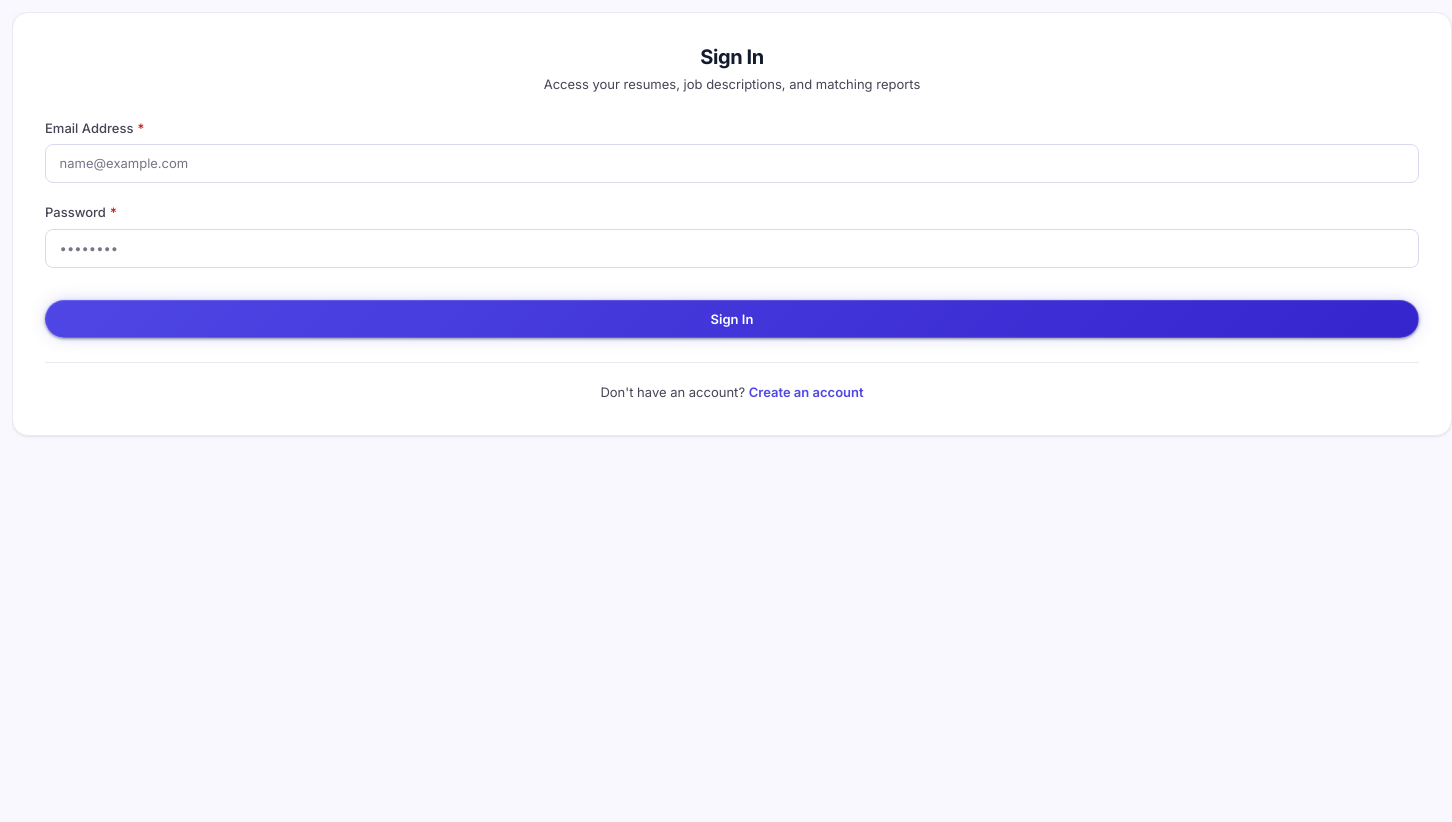
Test case: Authentication & Route Protection Suite › 2. Successful login: authenticates user and sets token
In the field labelled "Email Address*": (732, 164) [45, 144, 1419, 183], type "samreeth@example.com"
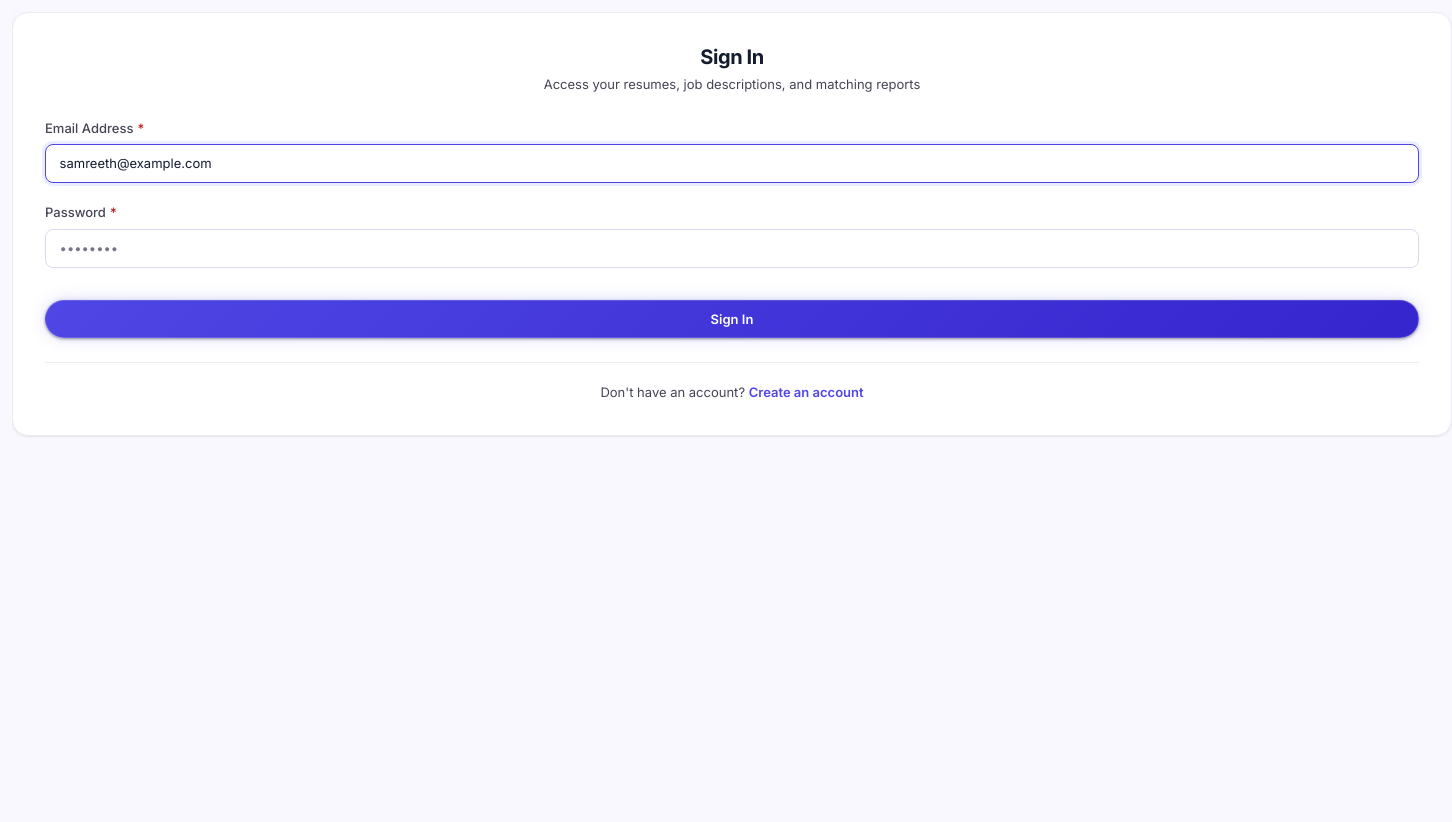
In the password field labelled "Password*": (732, 248) [45, 229, 1419, 268], type "SecretPass123!"
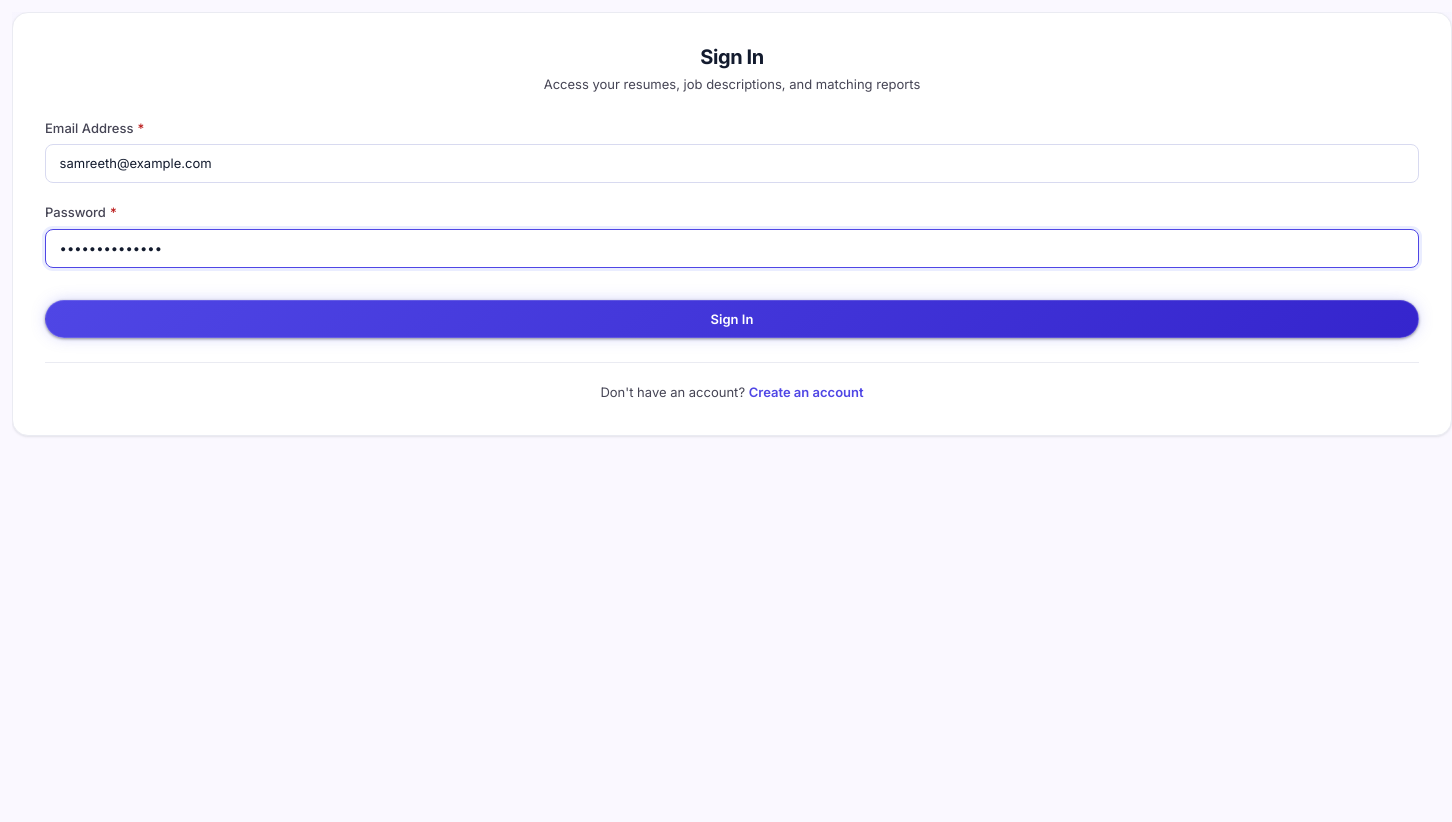
Click the button with test id "login-submit-btn": (732, 319) [45, 300, 1419, 338]
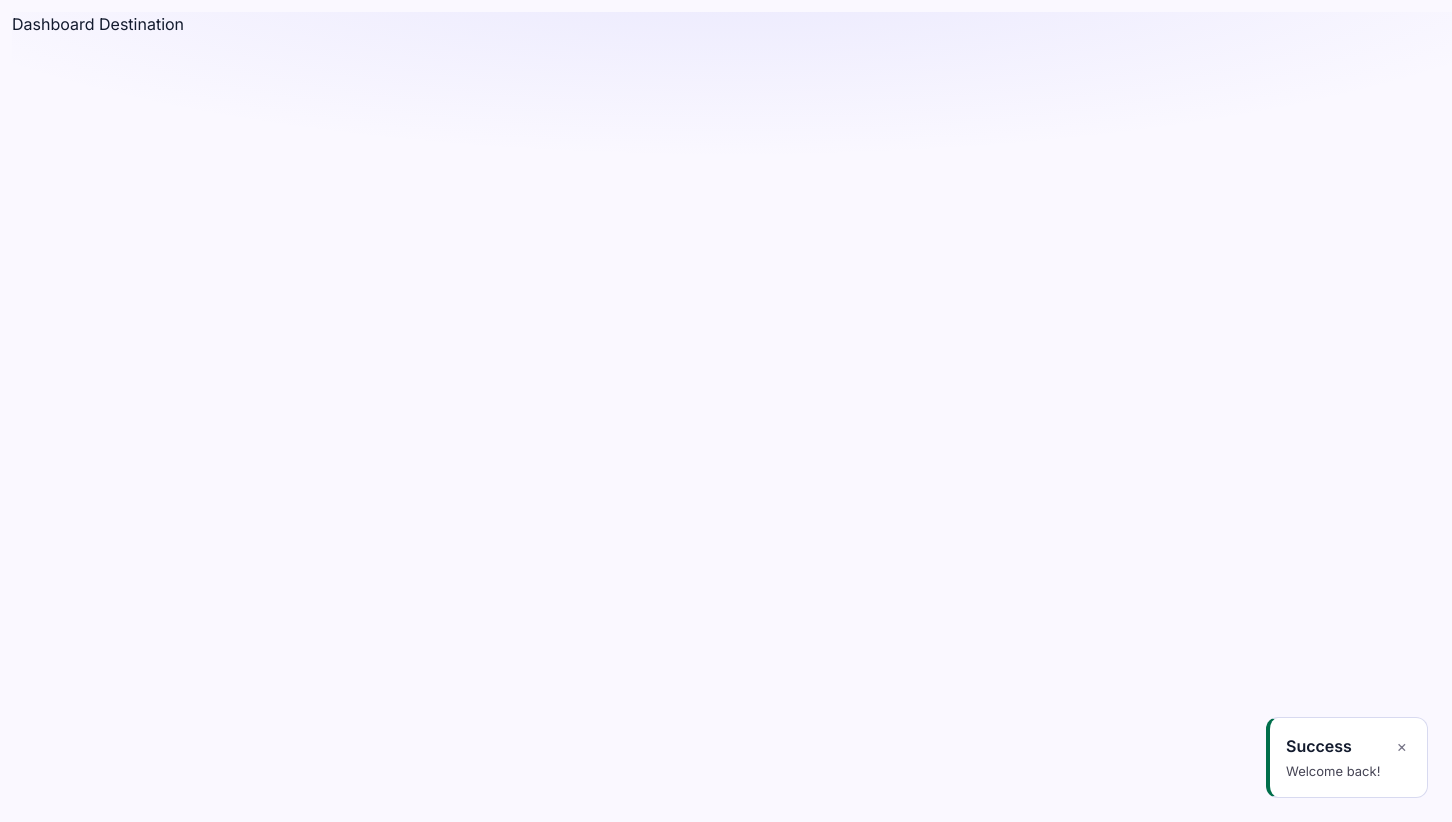
Now the text "Dashboard Destination" is shown, box [12, 14, 184, 34]
